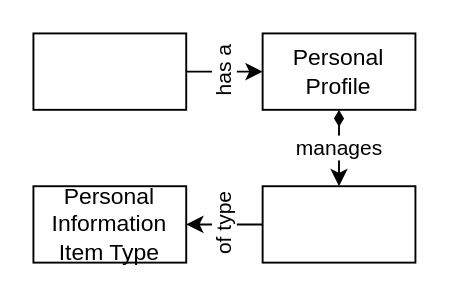
Image size: 449x298. Some labels were removed from this diagram. Each missing label, with the box of its shape:
Person (thin): (32, 32, 186, 110)
Personal Information Item: (261, 184, 415, 263)
